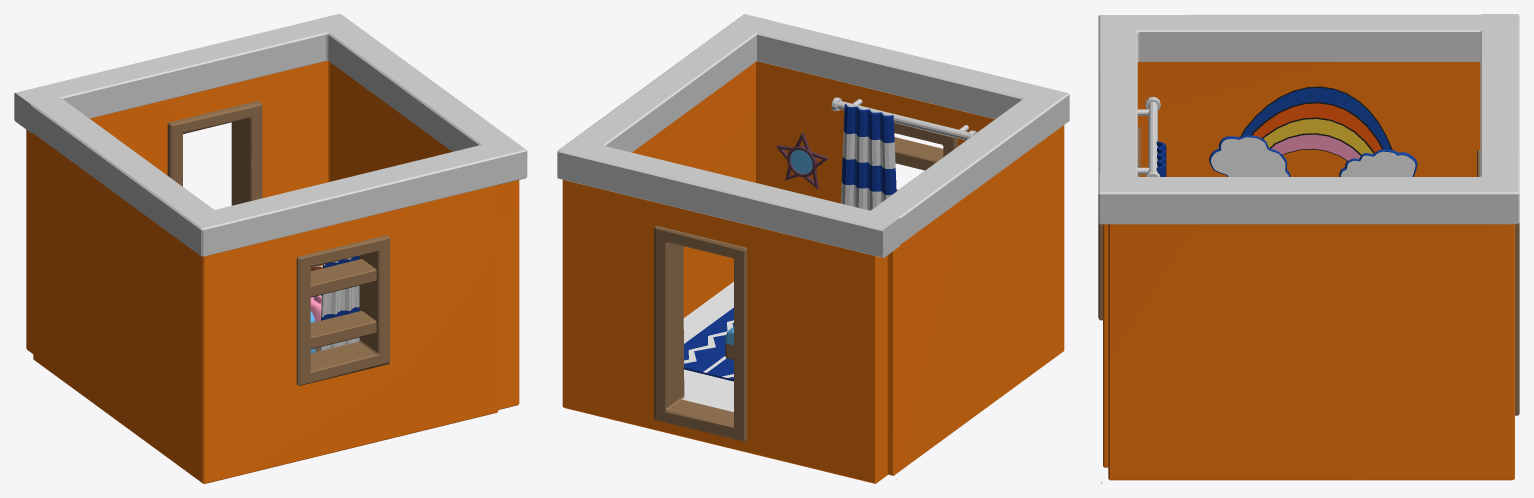
Rendered from ChildRoom1.fbx.
The picture shows the model from 3 angles, left to right: view 1: azimuth 30°, elevation 25°; view 2: azimuth 150°, elevation 25°; view 3: azimuth 270°, elevation 25°; orthographic projection. The views are drawn at different scales.
Visible parts, largest first — view 1: Wall.004, Wall.005; view 2: Wall.005, Wall.004, ChildRoom; view 3: Wall.005, Wall.004.
Boxes of the visible parts, x1=… form: Wall.004: x1=25, y1=93, x2=509, y2=483; Wall.005: x1=14, y1=14, x2=528, y2=409; Wall.005: x1=557, y1=14, x2=900, y2=483; Wall.004: x1=746, y1=18, x2=1069, y2=479; ChildRoom: x1=682, y1=282, x2=733, y2=411; Wall.005: x1=1098, y1=14, x2=1519, y2=483; Wall.004: x1=1098, y1=14, x2=1494, y2=467.
Bounding box in the file's own units: 4.95 × 3.7 × 4.87.
